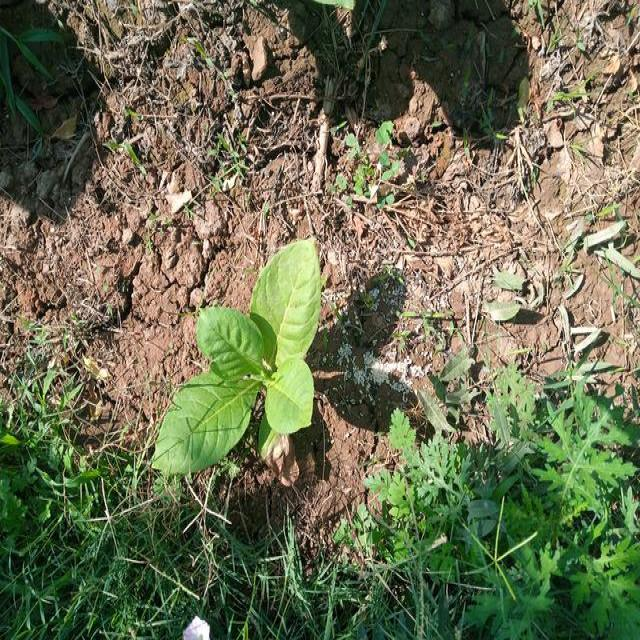crop: (150, 238, 330, 466)
